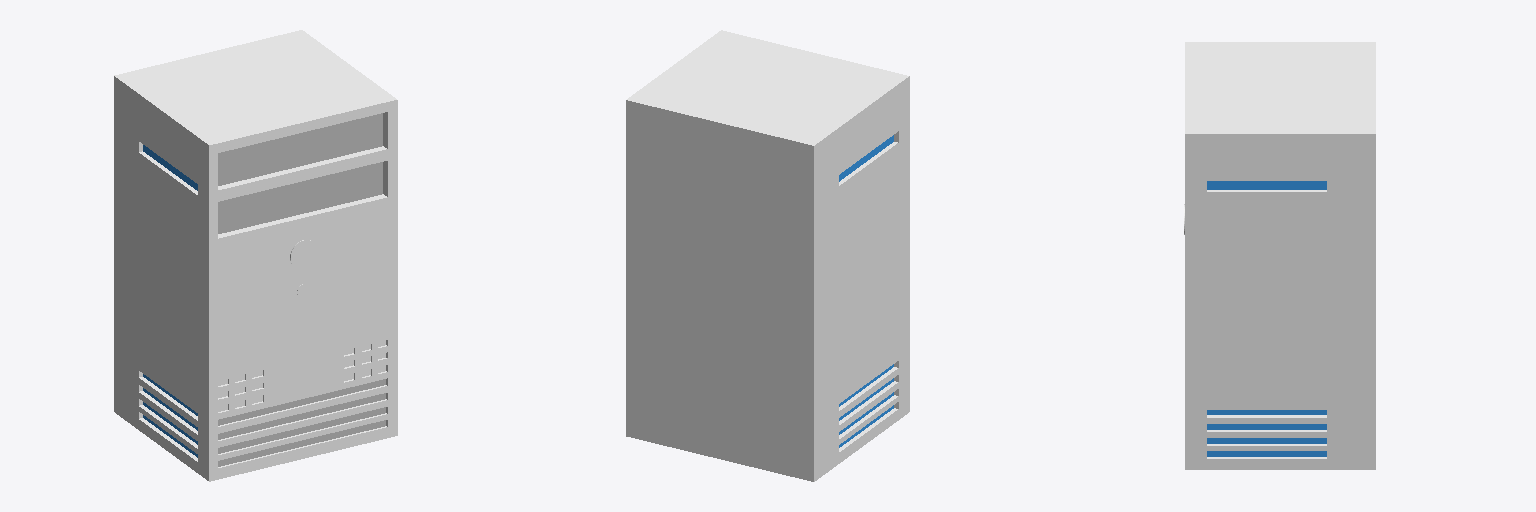
Rendered from fuwuqi1.obj.
3 renders of one model, left to right at view 1: azimuth 30°, elevation 25°; view 2: azimuth 150°, elevation 25°; view 3: azimuth 270°, elevation 25°, orthographic.
Visible parts, largest first — view 1: fuwuqi1; view 2: fuwuqi1; view 3: fuwuqi1.
Boxes of the visible parts, x1,y1,x2,y2 form: fuwuqi1: [114, 30, 397, 481]; fuwuqi1: [626, 30, 909, 481]; fuwuqi1: [1184, 42, 1375, 469].
Size of the model in its own units: 40.5 by 69.13 by 35.77.